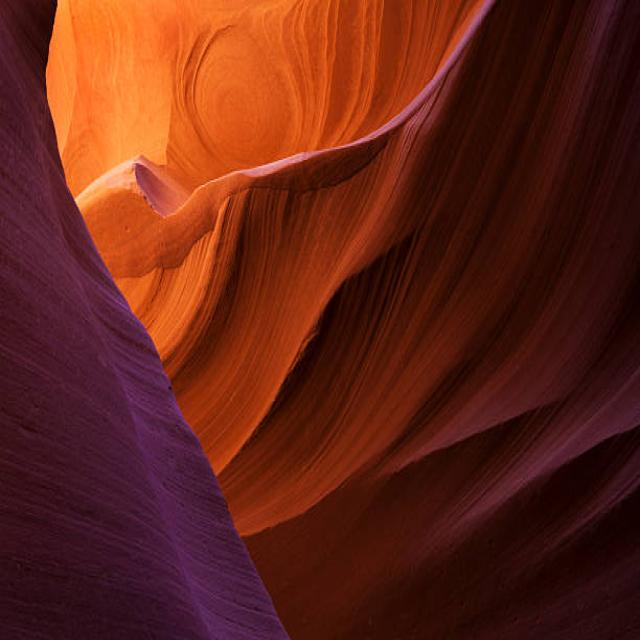Sedimentary: (1, 3, 638, 640)
